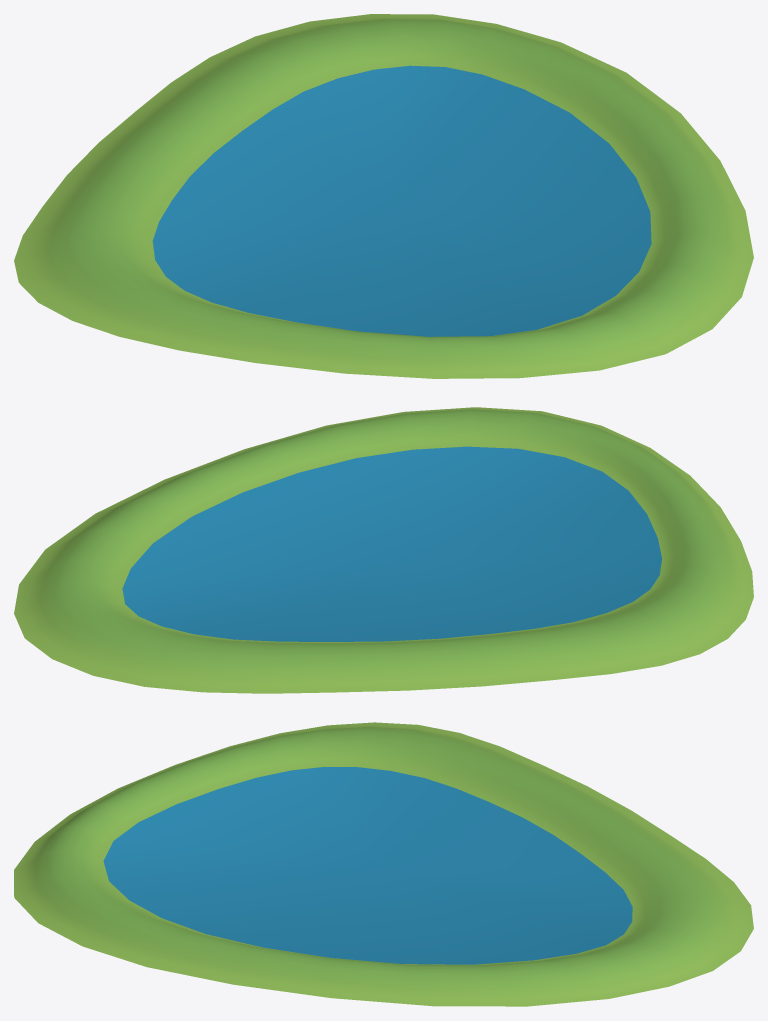
The model's file is Water3.fbx.
The picture shows the model from 3 angles, top to bottom: view 1: azimuth 30°, elevation 25°; view 2: azimuth 150°, elevation 25°; view 3: azimuth 270°, elevation 25°; orthographic projection. The views are drawn at different scales.
Parts seen in each view (by area): view 1: Circle.001; view 2: Circle.001; view 3: Circle.001.
Boxes of the visible parts, bbox=[...] form: Circle.001: bbox=[14, 14, 753, 378]; Circle.001: bbox=[14, 407, 753, 693]; Circle.001: bbox=[14, 722, 753, 1006].
Bounding box in the file's own units: 9.01 × 0.2417 × 9.92.
